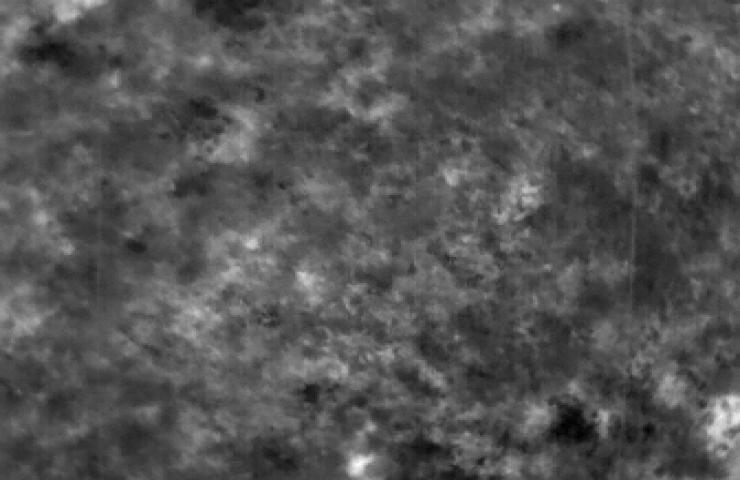landmines: (292, 267, 324, 293)
